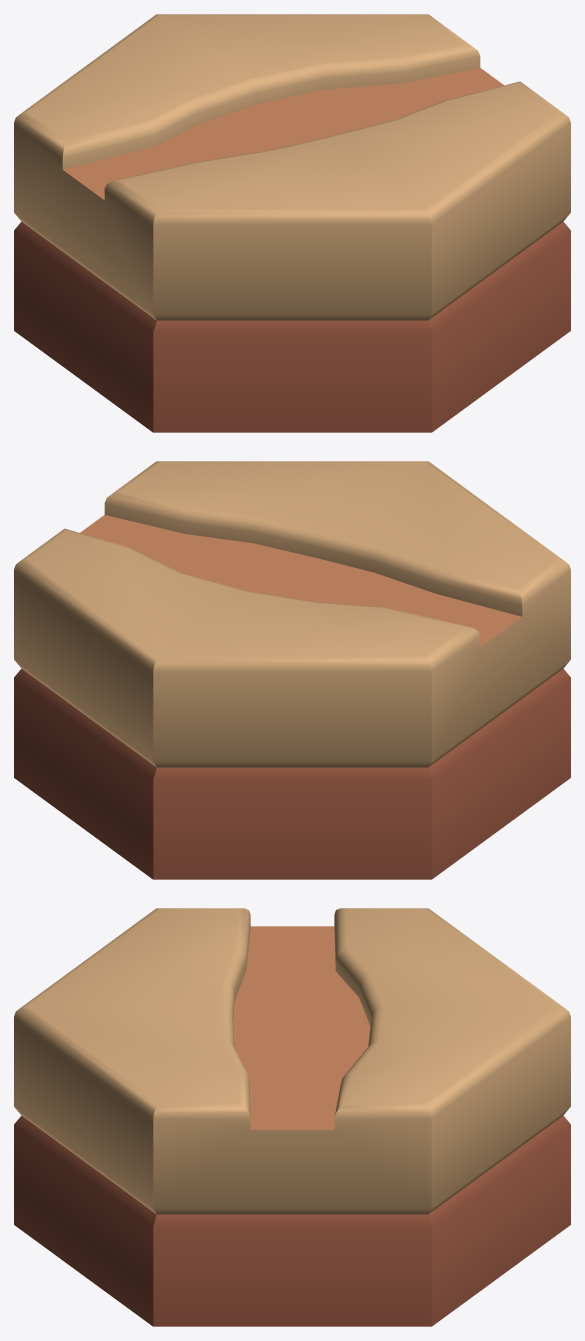
File: hex_sand_roadB_detail.glb
The picture shows the model from 3 angles, top to bottom: view 1: azimuth 30°, elevation 25°; view 2: azimuth 150°, elevation 25°; view 3: azimuth 270°, elevation 25°; orthographic projection.
Visible parts, largest first — view 1: hex_sand_roadB_detail; view 2: hex_sand_roadB_detail; view 3: hex_sand_roadB_detail.
Boxes of the visible parts, x1,y1,x2,y2 form: hex_sand_roadB_detail: [14, 14, 570, 432]; hex_sand_roadB_detail: [14, 461, 570, 879]; hex_sand_roadB_detail: [14, 908, 570, 1326].
Size of the model in its own units: 3.82 by 1.91 by 4.41.
